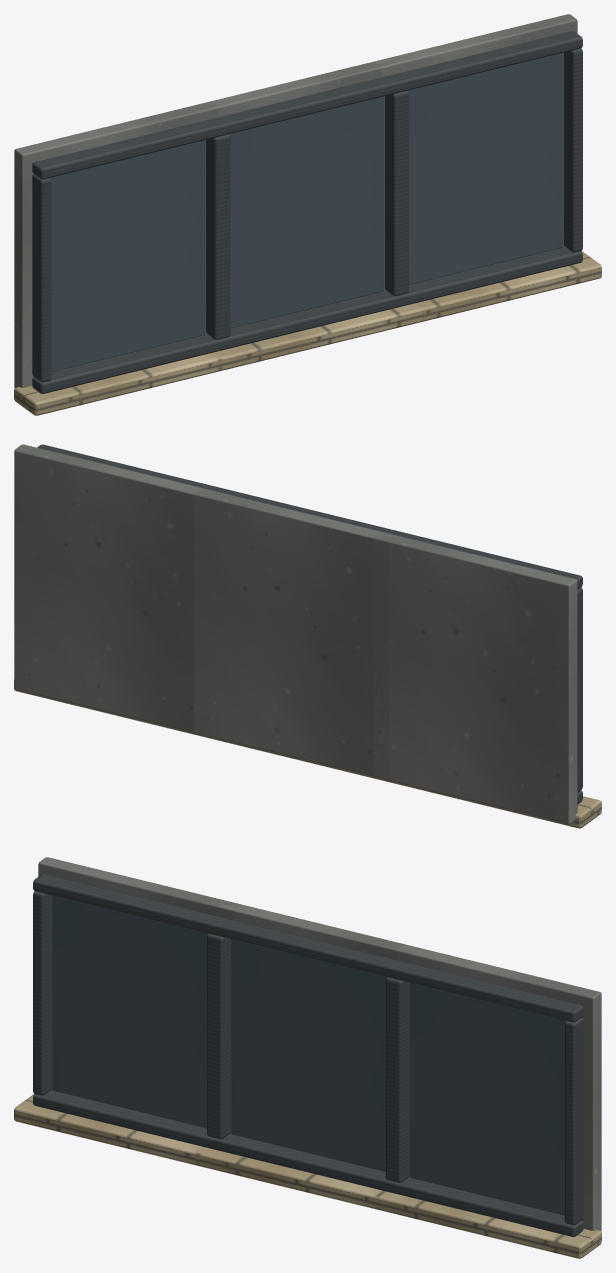
Rendered from window-triple-ribbon.lod0.gltf.
3 renders of one model, top to bottom at view 1: azimuth 30°, elevation 25°; view 2: azimuth 150°, elevation 25°; view 3: azimuth 330°, elevation 25°, orthographic.
Parts seen in each view (by area): view 1: window-triple-ribbon; view 2: window-triple-ribbon; view 3: window-triple-ribbon.
Boxes of the visible parts, bbox=[...] form: window-triple-ribbon: bbox=[14, 14, 601, 415]; window-triple-ribbon: bbox=[14, 444, 601, 828]; window-triple-ribbon: bbox=[14, 857, 601, 1258].
Size of the model in its own units: 3.81 by 1.59 by 0.32.
4 materials, 4 textured.
